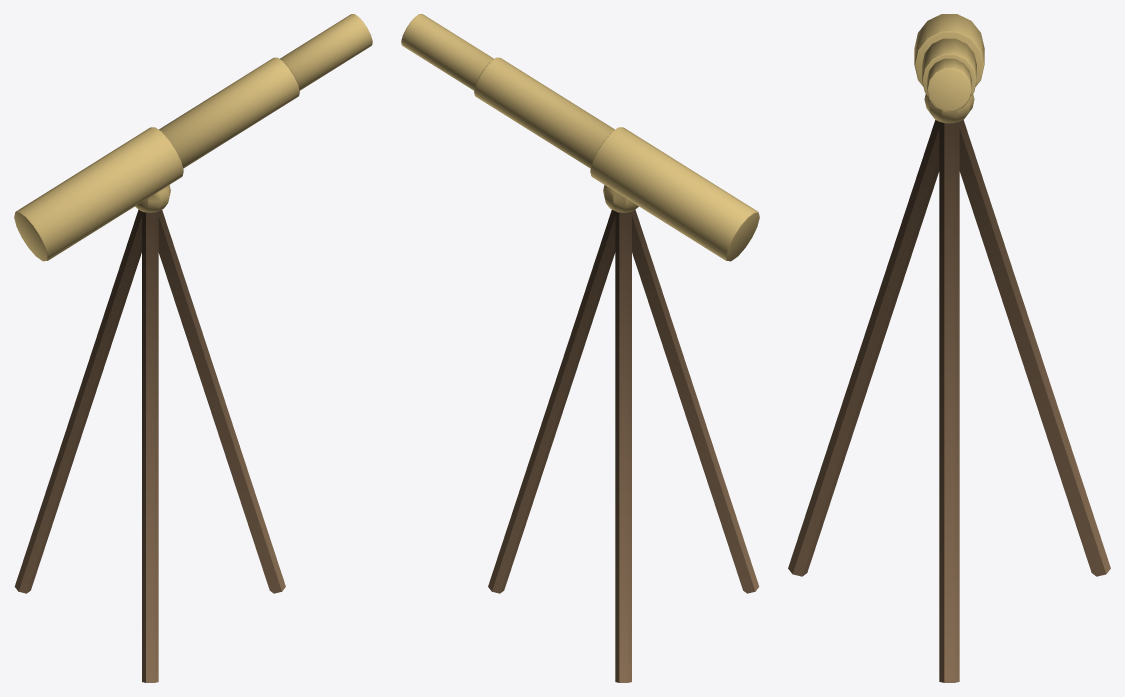
File: telescope.glb
The picture shows the model from 3 angles, left to right: view 1: azimuth 30°, elevation 25°; view 2: azimuth 150°, elevation 25°; view 3: azimuth 270°, elevation 25°; orthographic projection. The views are drawn at different scales.
Parts seen in each view (by area): view 1: boat_oak, boat_brass2; view 2: boat_oak, boat_brass2; view 3: boat_oak, boat_brass2.
Boxes of the visible parts, x1,y1,x2,y2 form: boat_oak: (14, 209, 285, 682); boat_brass2: (14, 14, 372, 261); boat_oak: (488, 209, 759, 682); boat_brass2: (401, 14, 759, 261); boat_oak: (788, 120, 1110, 682); boat_brass2: (914, 14, 984, 123).
Bounding box in the file's own units: 0.9469 × 1.46 × 0.6448.
